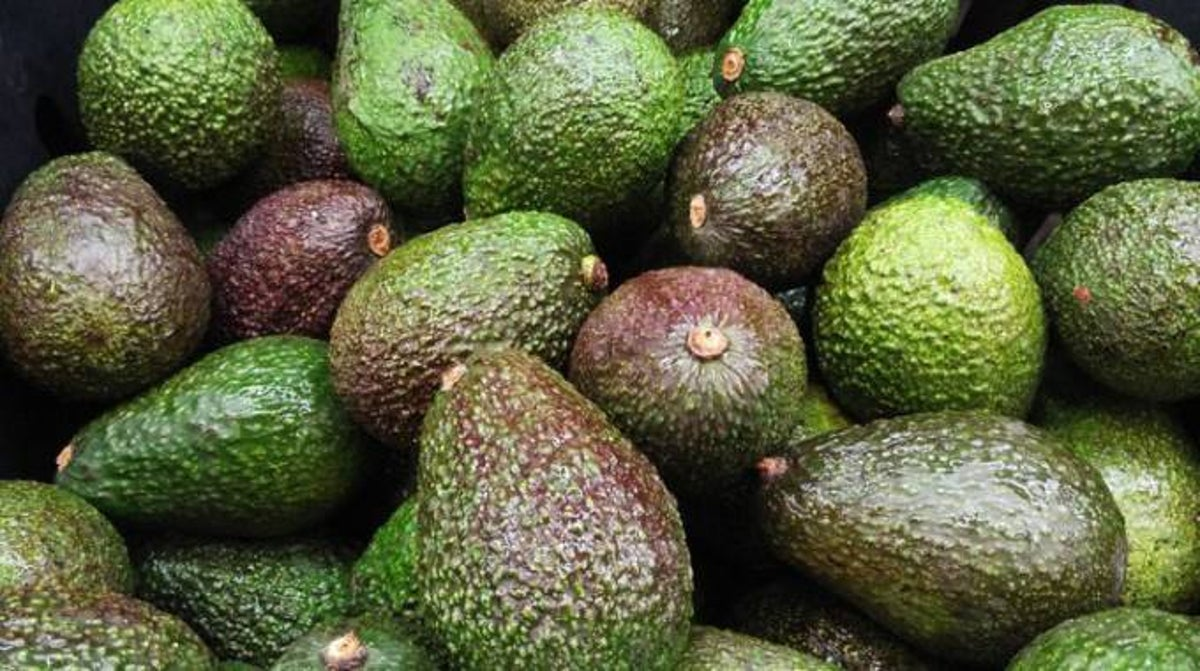fit_avocado: (202, 166, 399, 318)
unfit_avocado: (815, 169, 1050, 429), (898, 10, 1200, 187), (471, 9, 694, 238)
